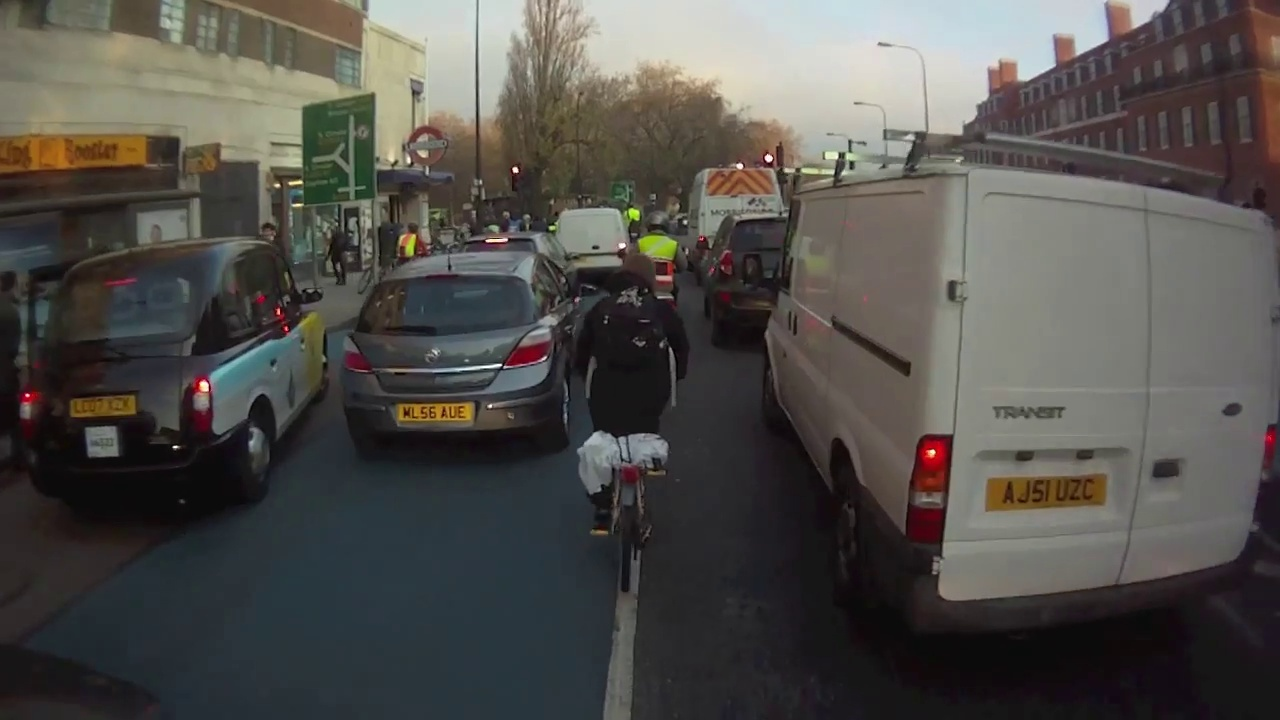cyclist_back: (571, 245, 685, 597), (632, 209, 699, 380)
